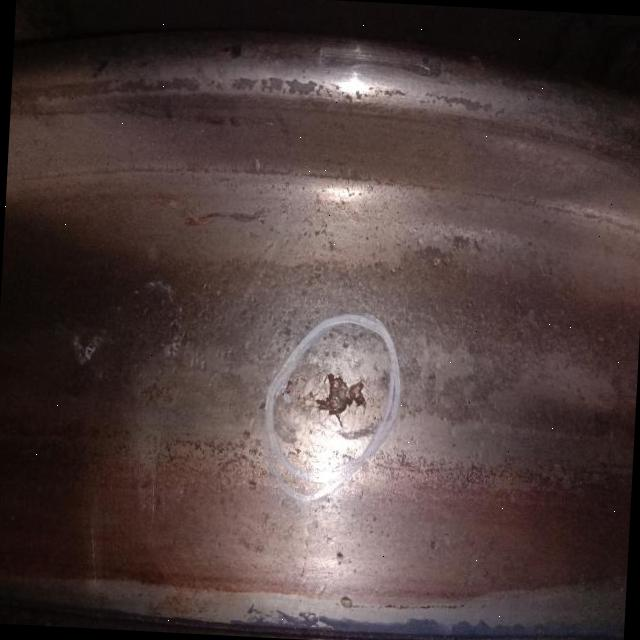Blue hole: (282, 371, 370, 430)
